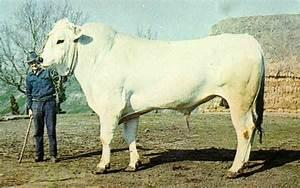cow: (37, 16, 266, 178)
